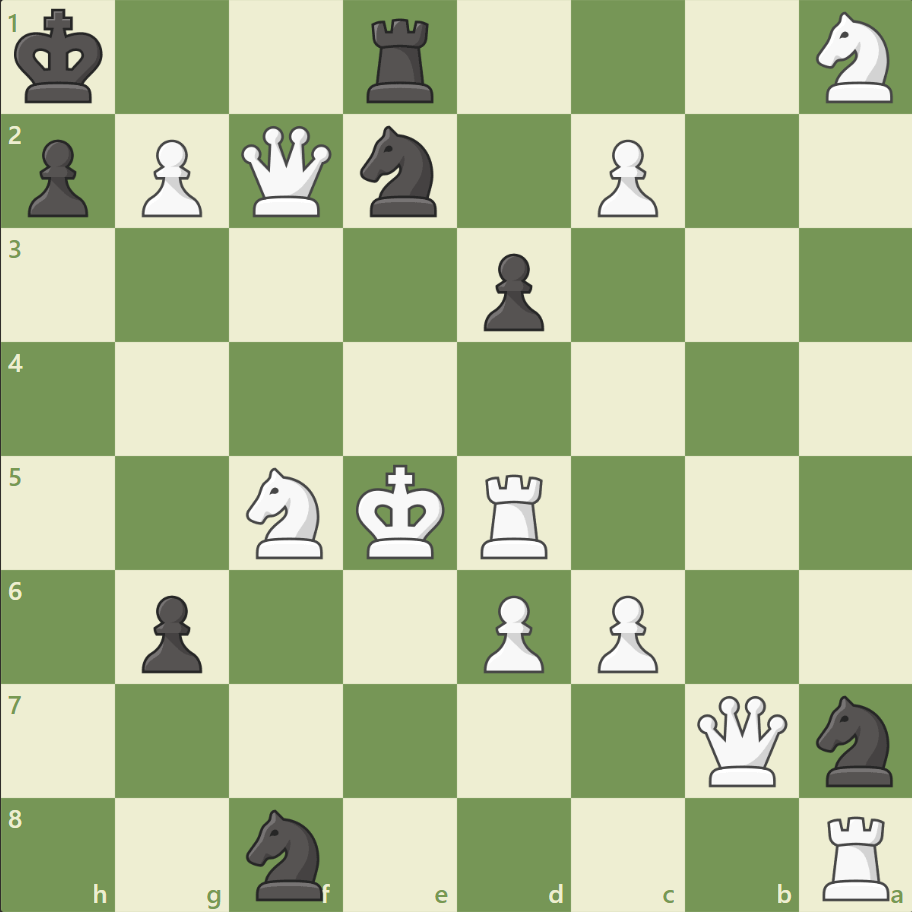K: (351, 458, 451, 566)
N: (238, 461, 335, 564), (806, 7, 903, 110)
P: (474, 586, 549, 677), (133, 132, 208, 223), (588, 586, 662, 677), (588, 132, 662, 223)
Q: (237, 122, 336, 222), (691, 690, 790, 789)
R: (814, 806, 897, 904), (473, 466, 556, 563)
k: (11, 4, 111, 112)
n: (351, 121, 449, 223), (806, 688, 903, 791), (238, 802, 335, 904)
p: (133, 586, 208, 677), (474, 246, 549, 337), (20, 132, 95, 223)
r: (360, 12, 442, 109)
